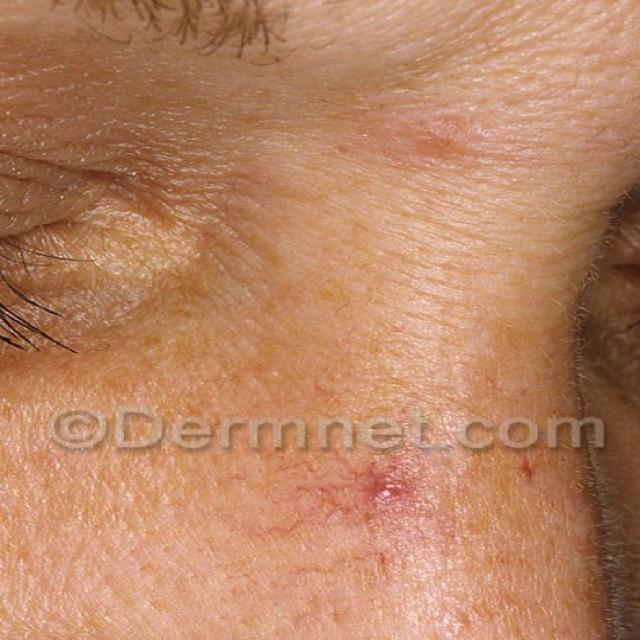Vascular Tumors: (322, 405, 557, 600), (379, 105, 481, 175)
